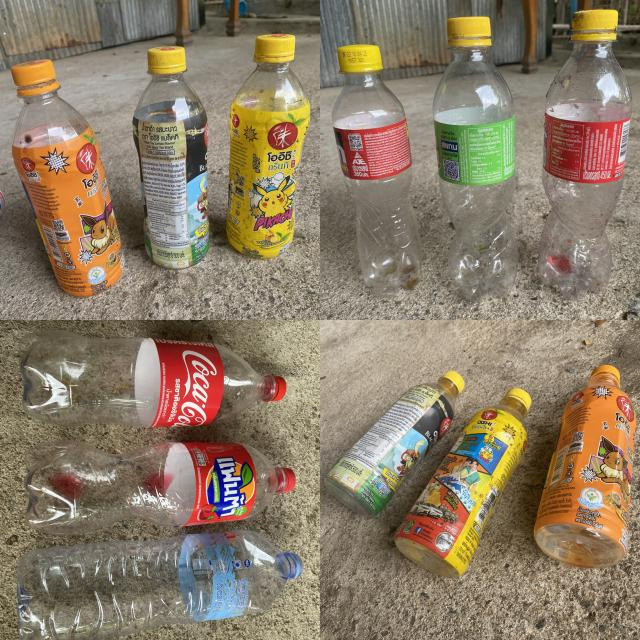plastik: (18, 530, 302, 640), (539, 10, 632, 300), (11, 60, 125, 296), (20, 330, 285, 428), (395, 389, 531, 578), (25, 441, 295, 535), (432, 16, 518, 301), (332, 45, 421, 296), (535, 365, 636, 568), (325, 371, 465, 516), (226, 34, 310, 259), (132, 46, 209, 269)
